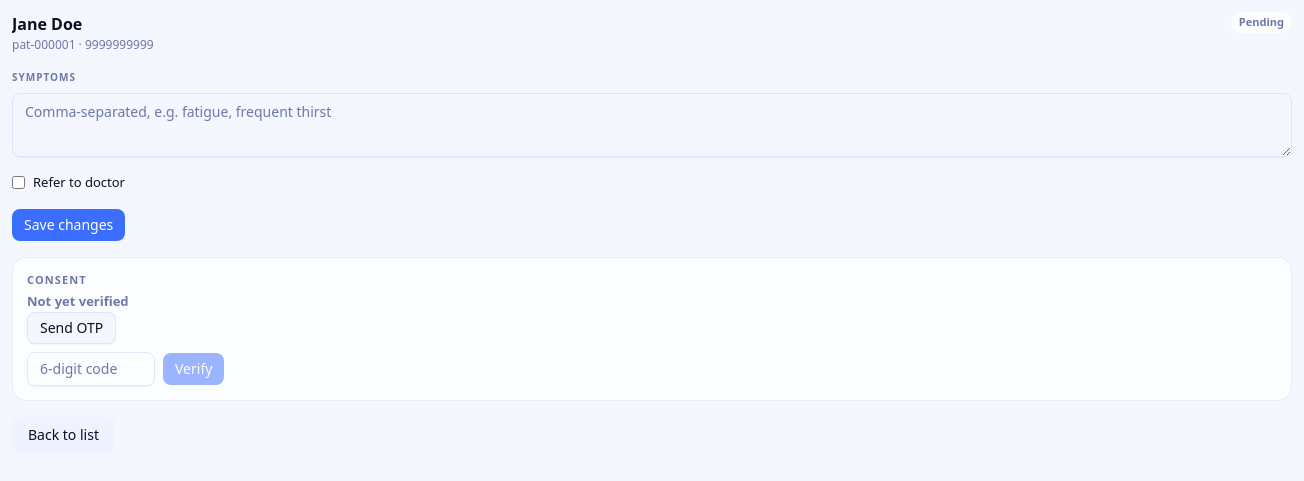
Test: ScreeningDetail › consent › shows a visible error when requesting the OTP itself fails
Click the button "Send OTP" at x=72, y=328, box [27,312,116,344]
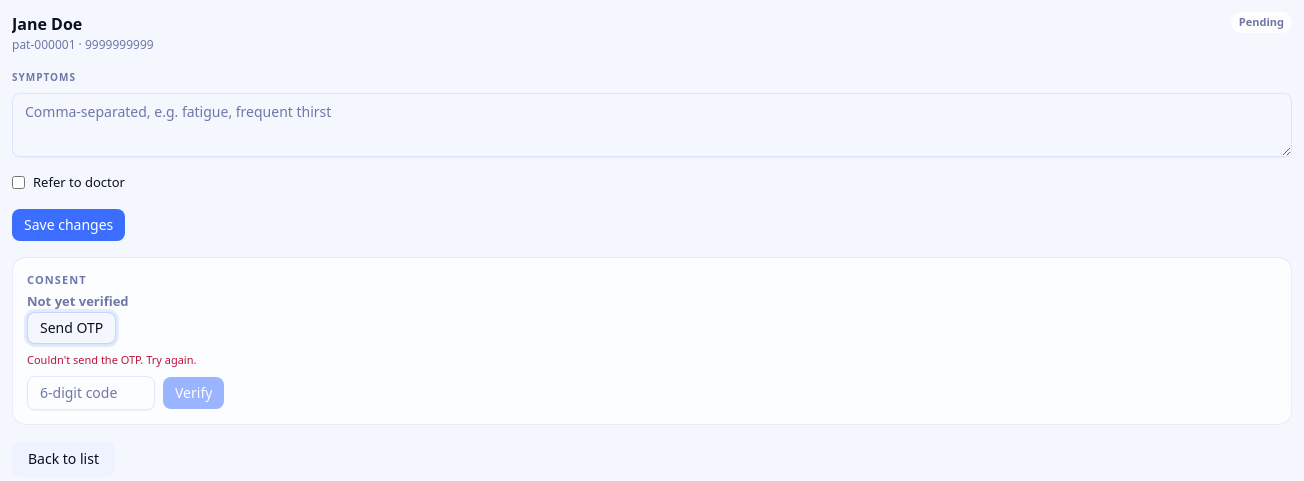
Expected: the text "Couldn't send the OTP. Try again." is shown, [27,352,196,366]
